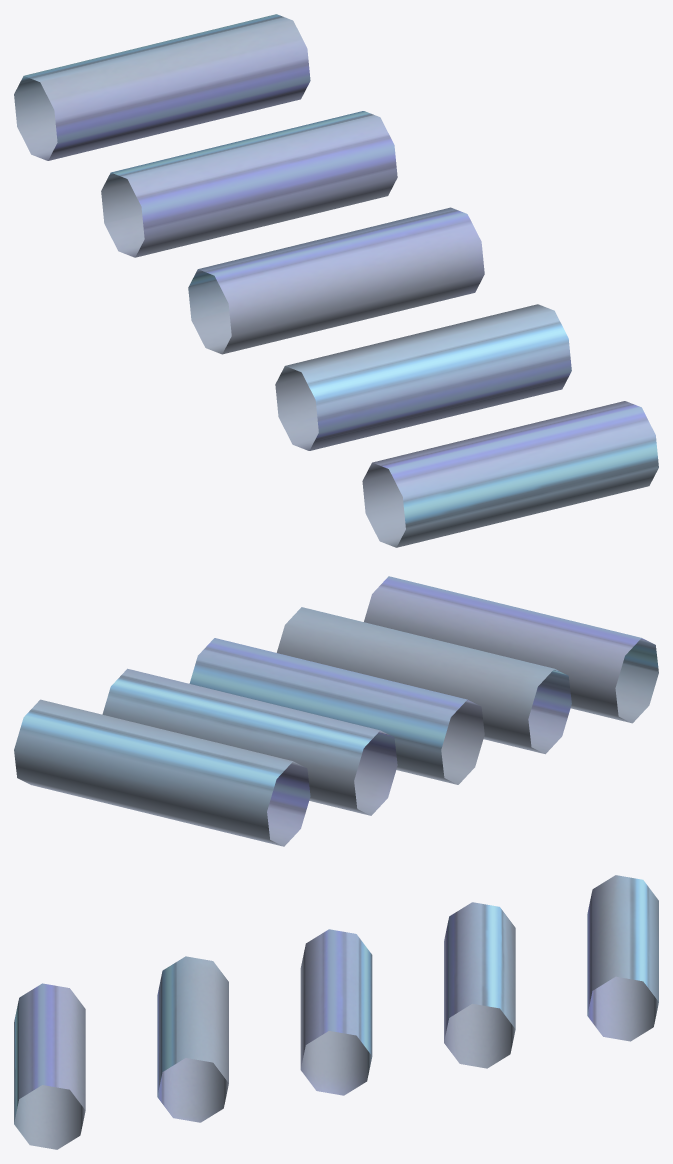
File: Space_CloudMid2.fbx
The picture shows the model from 3 angles, top to bottom: view 1: azimuth 30°, elevation 25°; view 2: azimuth 150°, elevation 25°; view 3: azimuth 270°, elevation 25°; orthographic projection. The views are drawn at different scales.
Visible parts, largest first — view 1: polySurface254; view 2: polySurface254; view 3: polySurface254.
Part boxes in pixels (x1,y1,x2,y2): polySurface254: [14, 14, 658, 547]; polySurface254: [14, 576, 658, 846]; polySurface254: [14, 875, 658, 1149].
Bounding box in the file's own units: 100 × 79.56 × 268.
